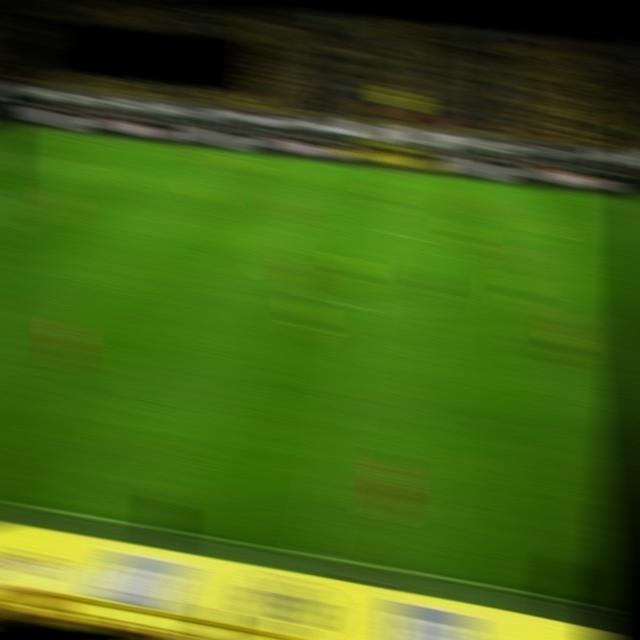bigarea_top_inner: (62, 156, 92, 171)
halfcircle_bottom: (346, 298, 378, 315)
halfcircle_top: (362, 222, 392, 238)
midline_bottom_intersection: (295, 542, 332, 567)
midline_top_intersection: (372, 162, 403, 178)
top_arc_area_intersection: (6, 183, 36, 200)
